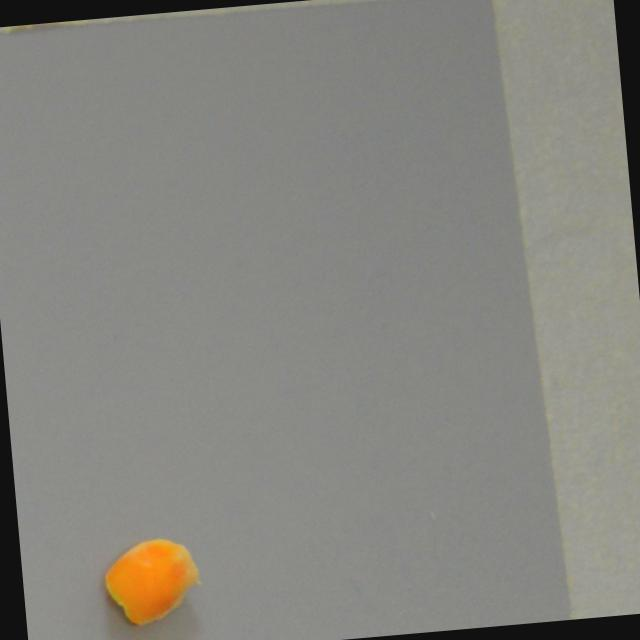pelicula: (102, 535, 206, 631)
